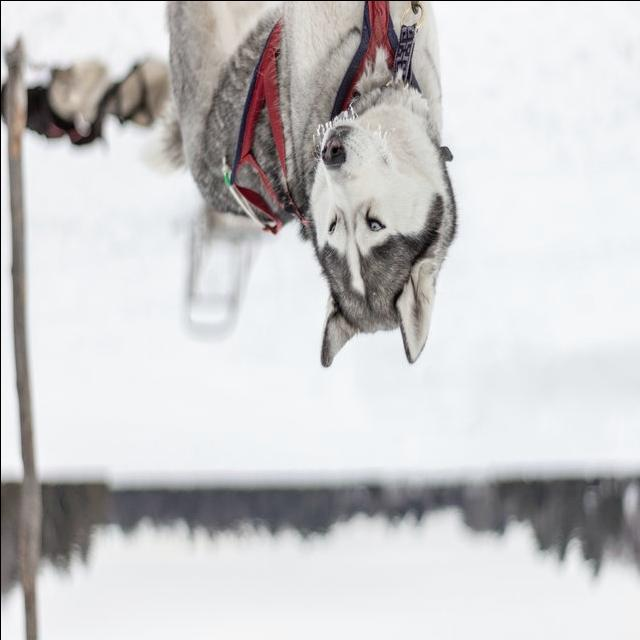husky: (160, 1, 457, 369)
